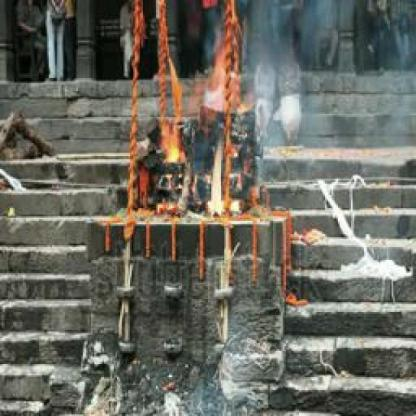fire: (156, 56, 238, 216)
